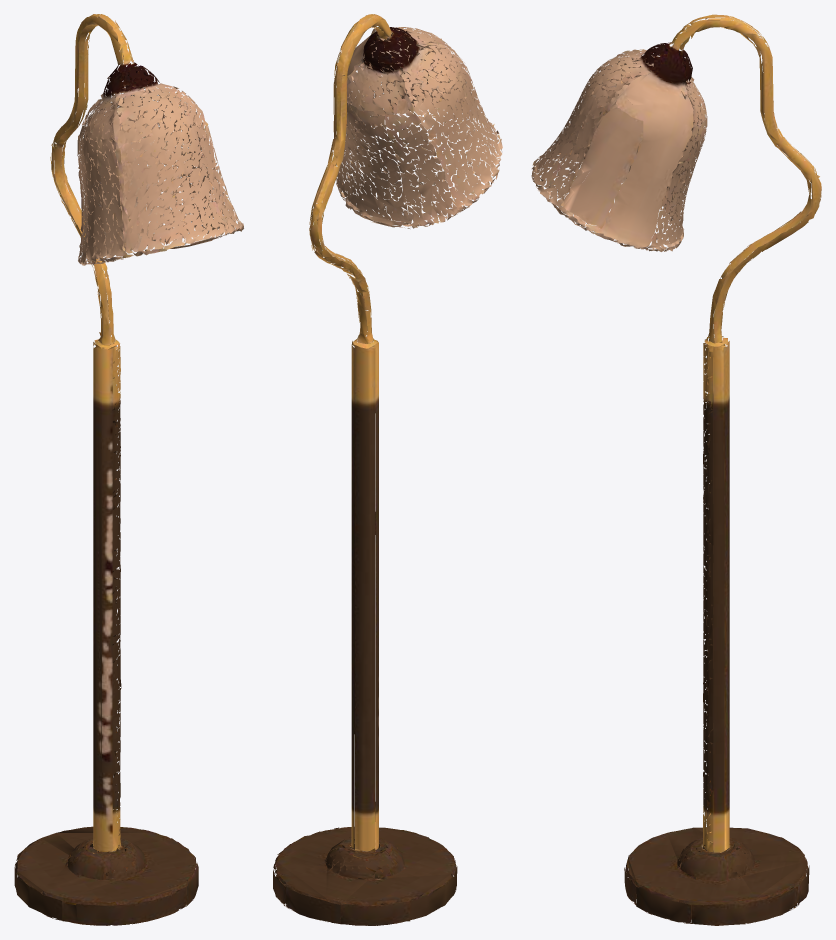
The model's file is wood_brass_floor_lamp_web.glb.
3 views of the same model, side by side, from view 1: azimuth 30°, elevation 25°; view 2: azimuth 150°, elevation 25°; view 3: azimuth 270°, elevation 25° (orthographic).
Parts seen in each view (by area): view 1: WoodBrassFloorLampModel; view 2: WoodBrassFloorLampModel; view 3: WoodBrassFloorLampModel.
Boxes of the visible parts, x1,y1,x2,y2 form: WoodBrassFloorLampModel: [14, 14, 243, 925]; WoodBrassFloorLampModel: [273, 14, 502, 925]; WoodBrassFloorLampModel: [531, 14, 821, 925].
Size of the model in its own units: 0.3309 by 1.74 by 0.5259.
Materials: 1 (1 with a texture image).
